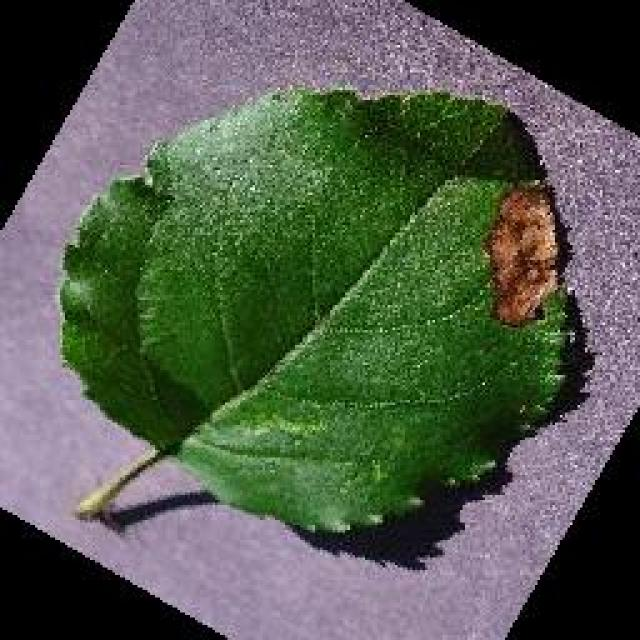Black_rot: (55, 82, 573, 538)
